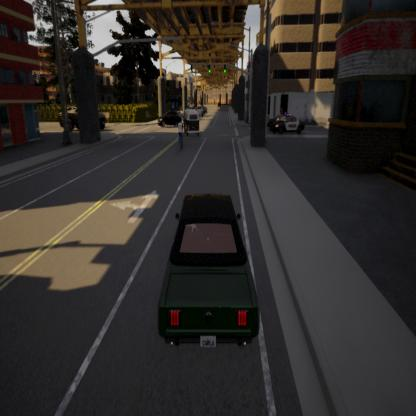Cars: (158, 194, 259, 348), (60, 107, 106, 129), (270, 112, 304, 135), (184, 108, 200, 134), (159, 112, 181, 126), (178, 118, 184, 146)
